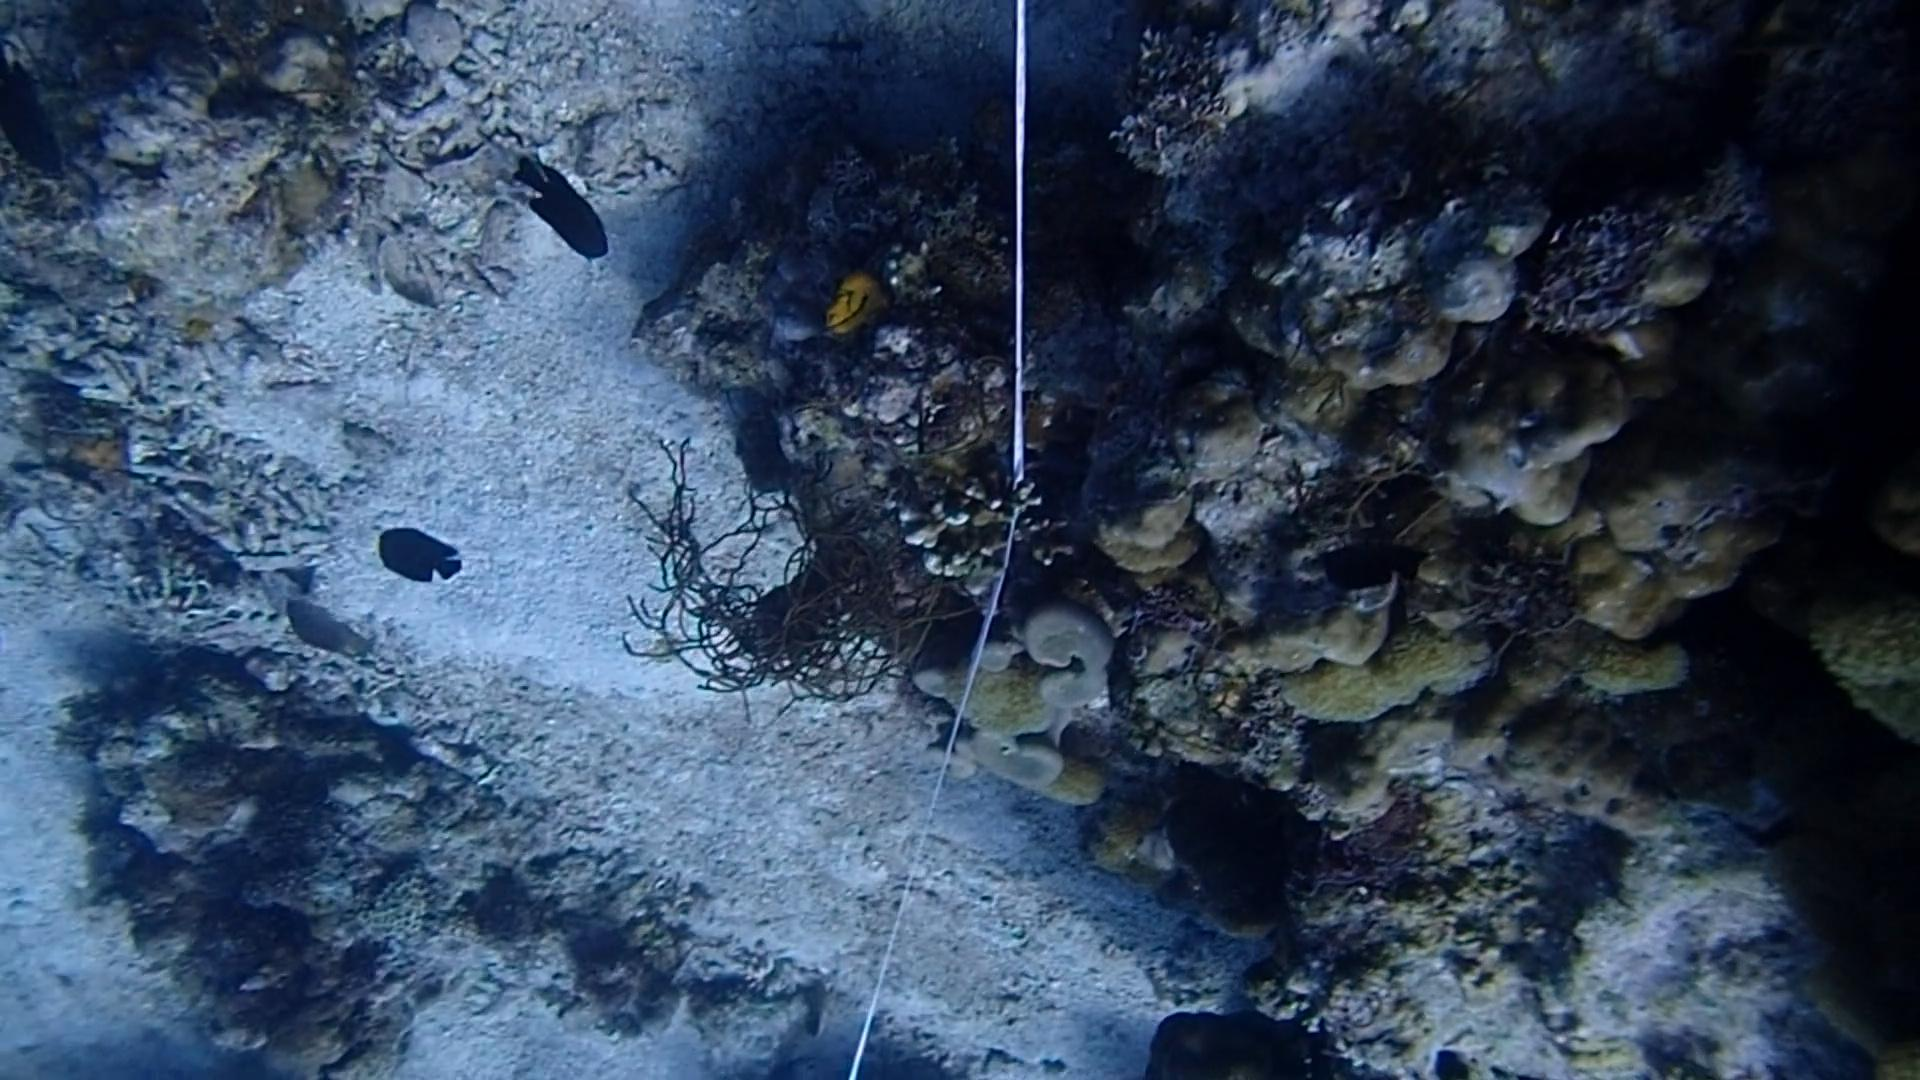Dark Fish: (510, 149, 613, 266), (363, 521, 481, 595), (0, 71, 65, 183)
Light Fish: (276, 593, 377, 670)
